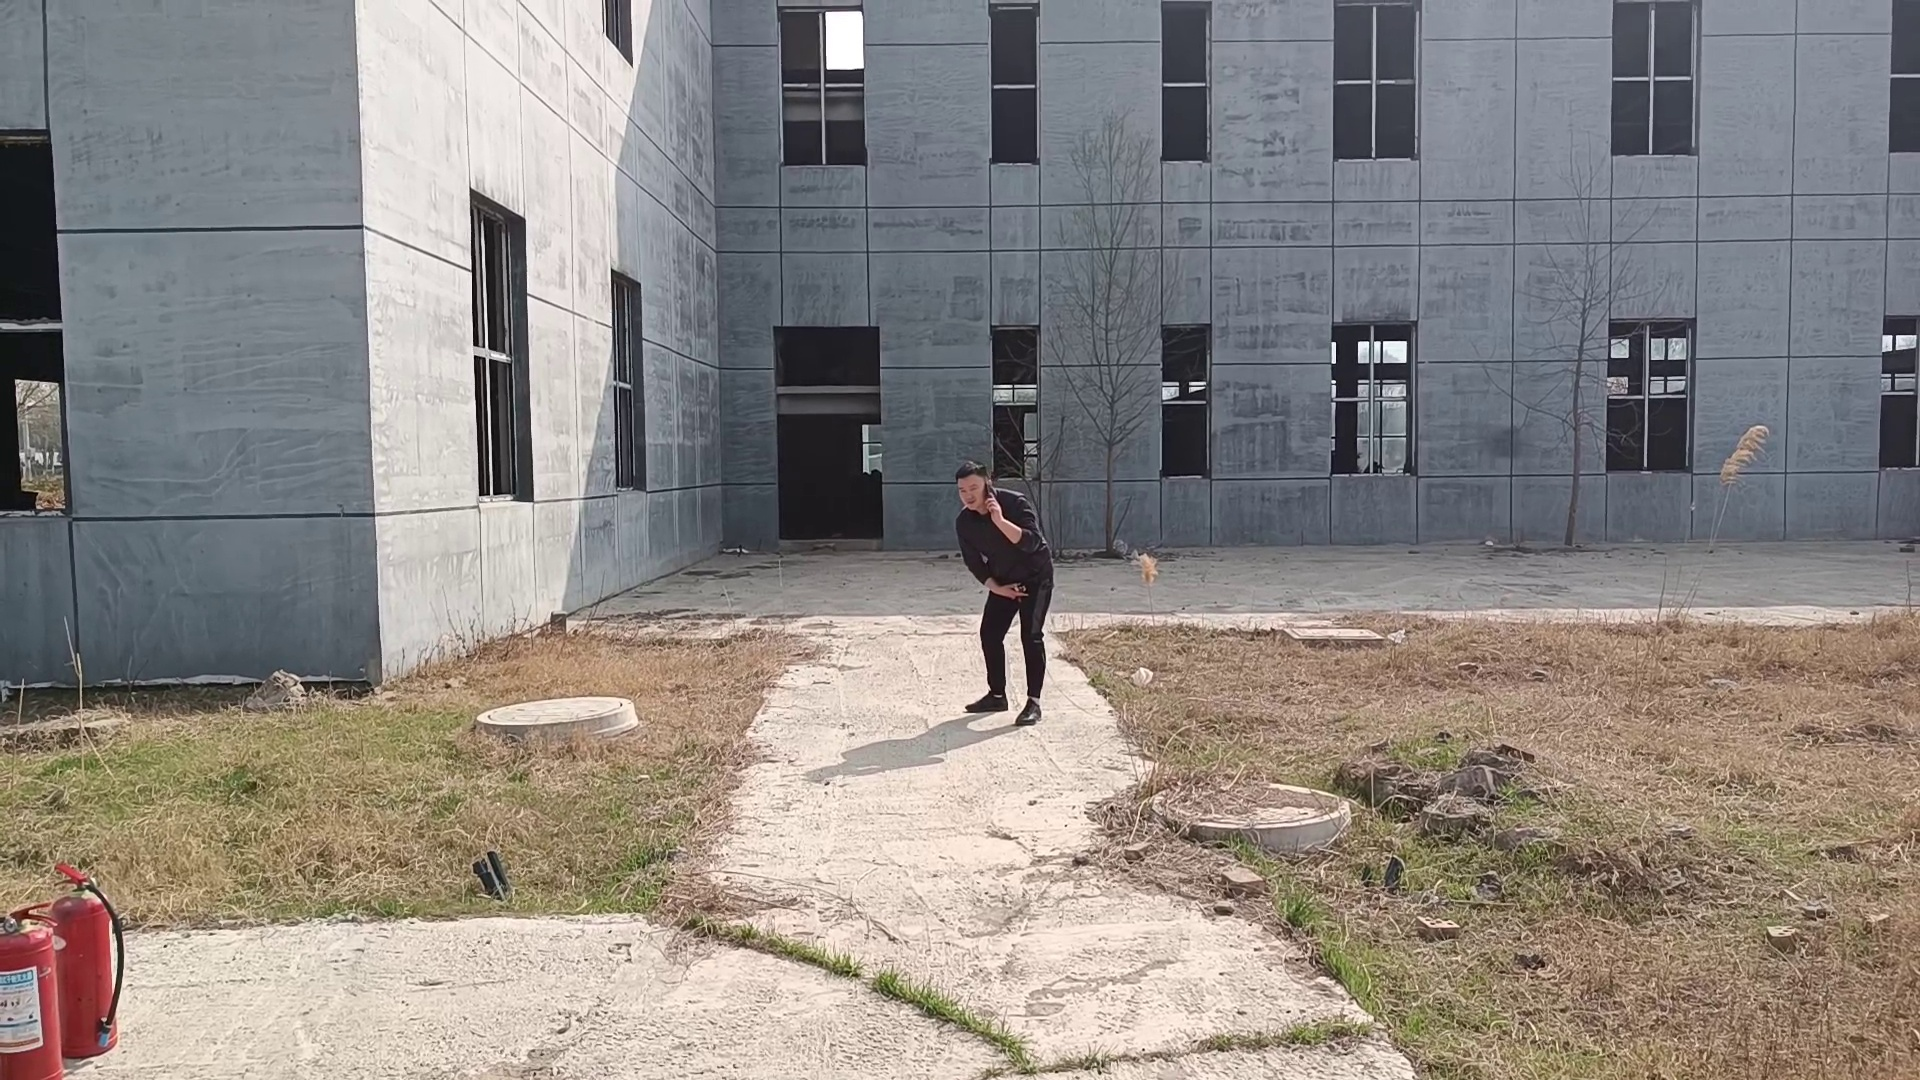phone: (956, 456, 1001, 524)
